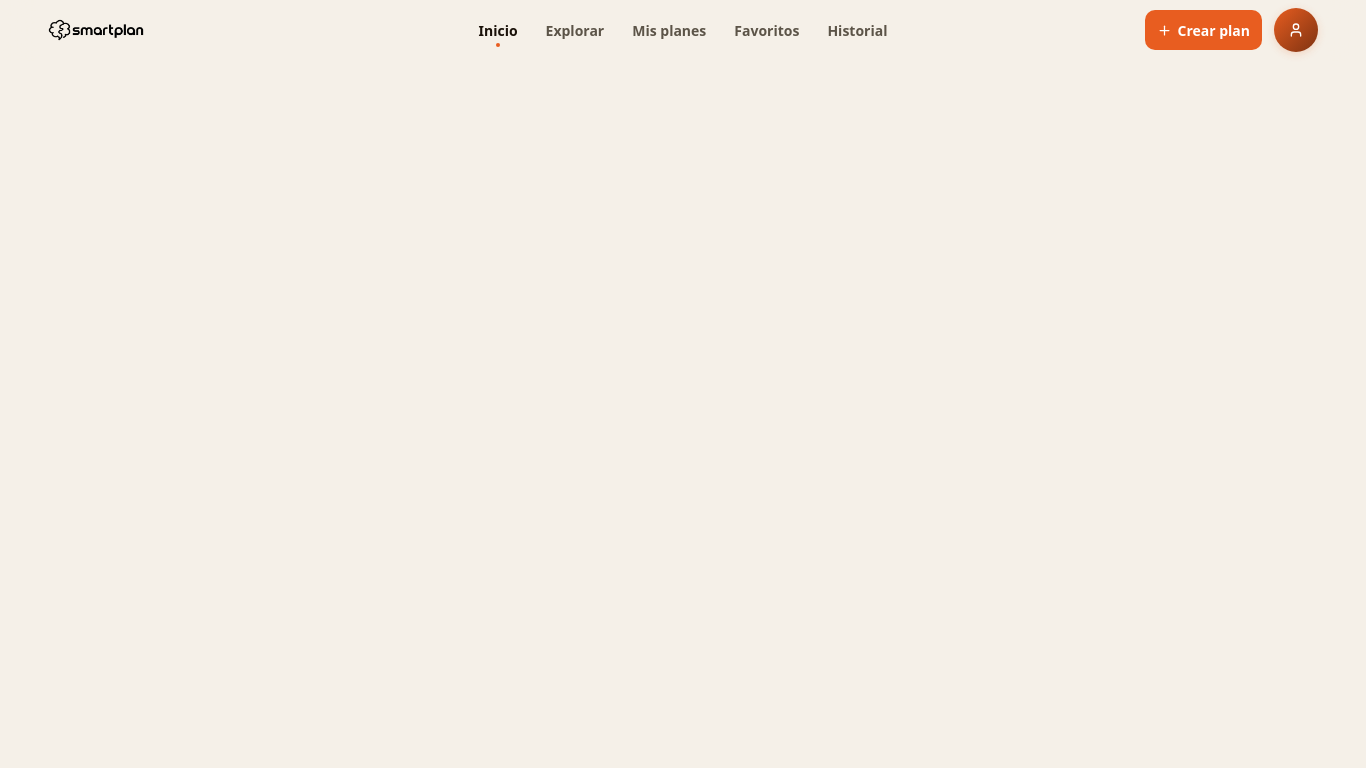
Navbar › still clears the local session and redirects when DELETE /sessions fails
This screenshot has width=1366, height=768.
Click the button named "mi cuenta": (1296, 30) [1274, 8, 1318, 52]
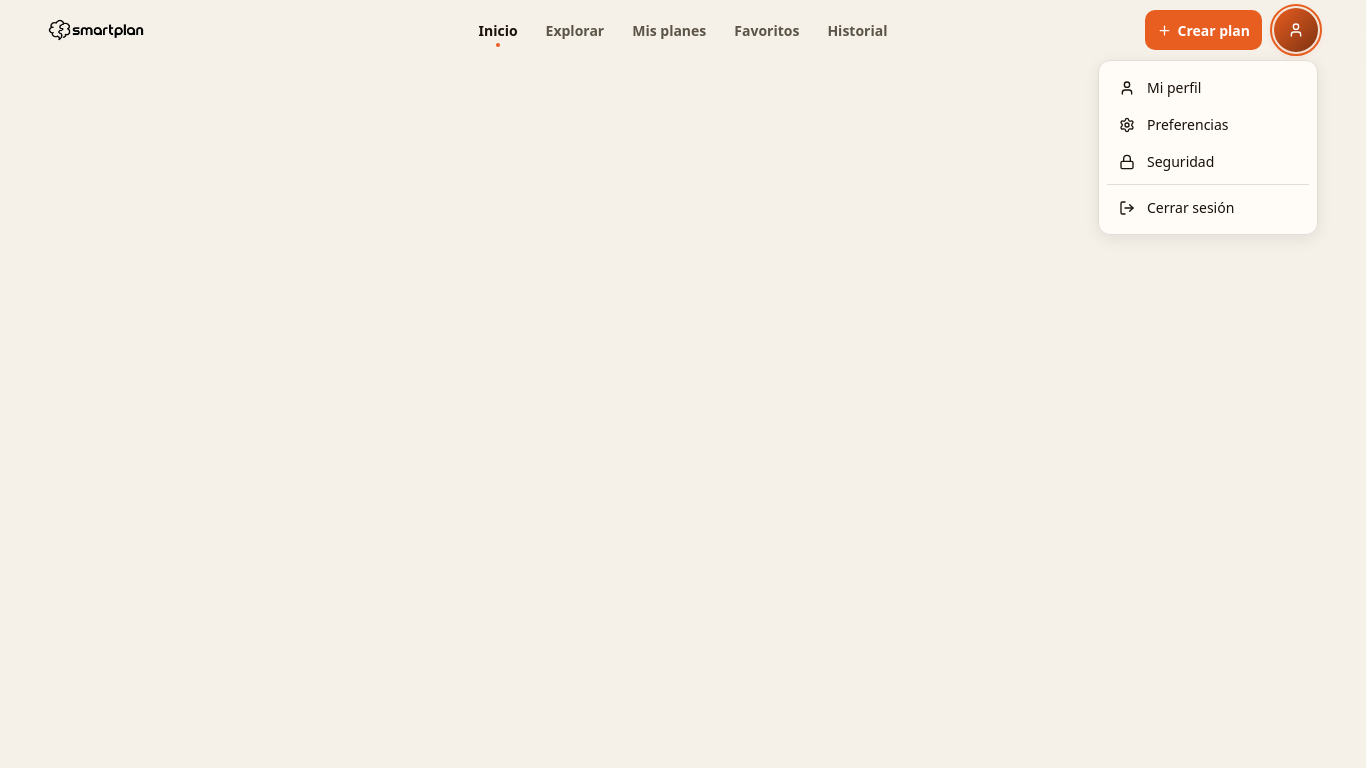
Click the button "Cerrar sesión": (1208, 208) [1107, 189, 1309, 226]
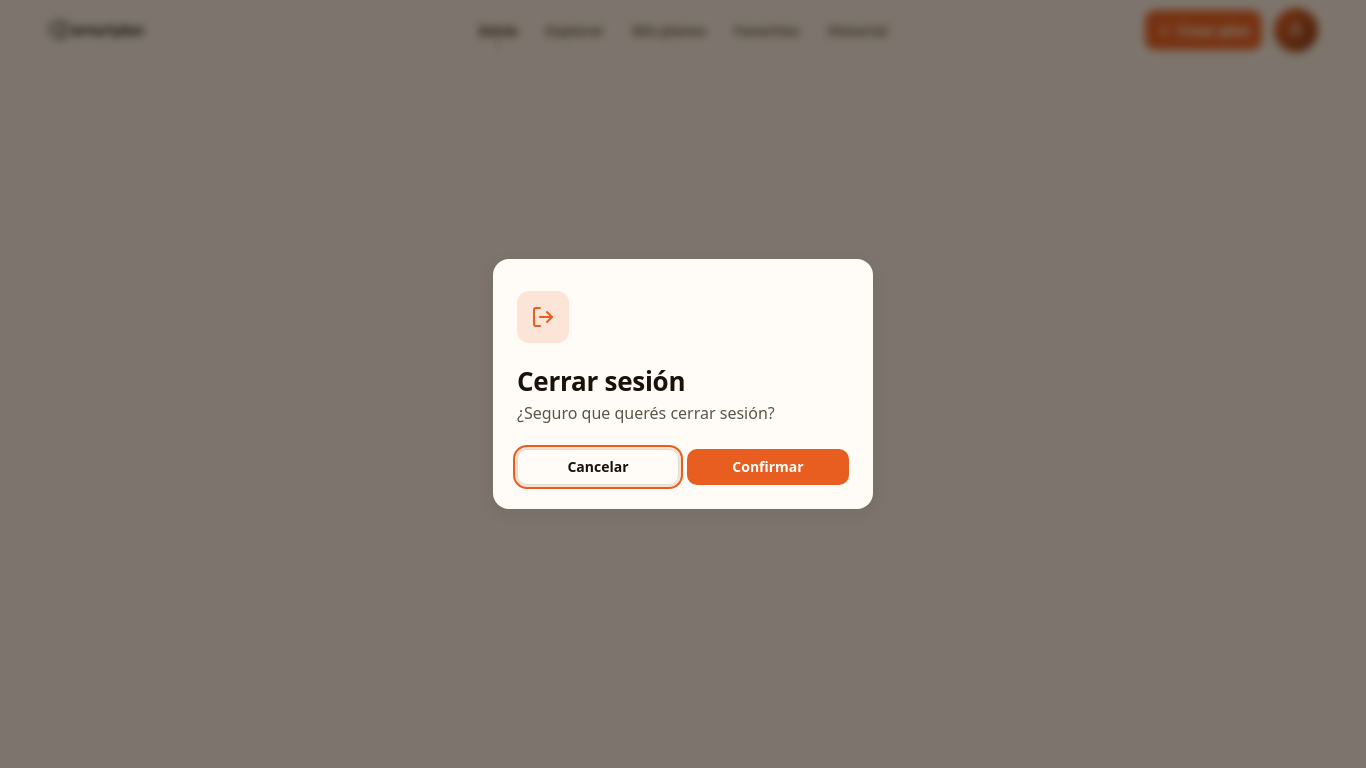
Click the button "Confirmar": (768, 467) [687, 449, 849, 485]
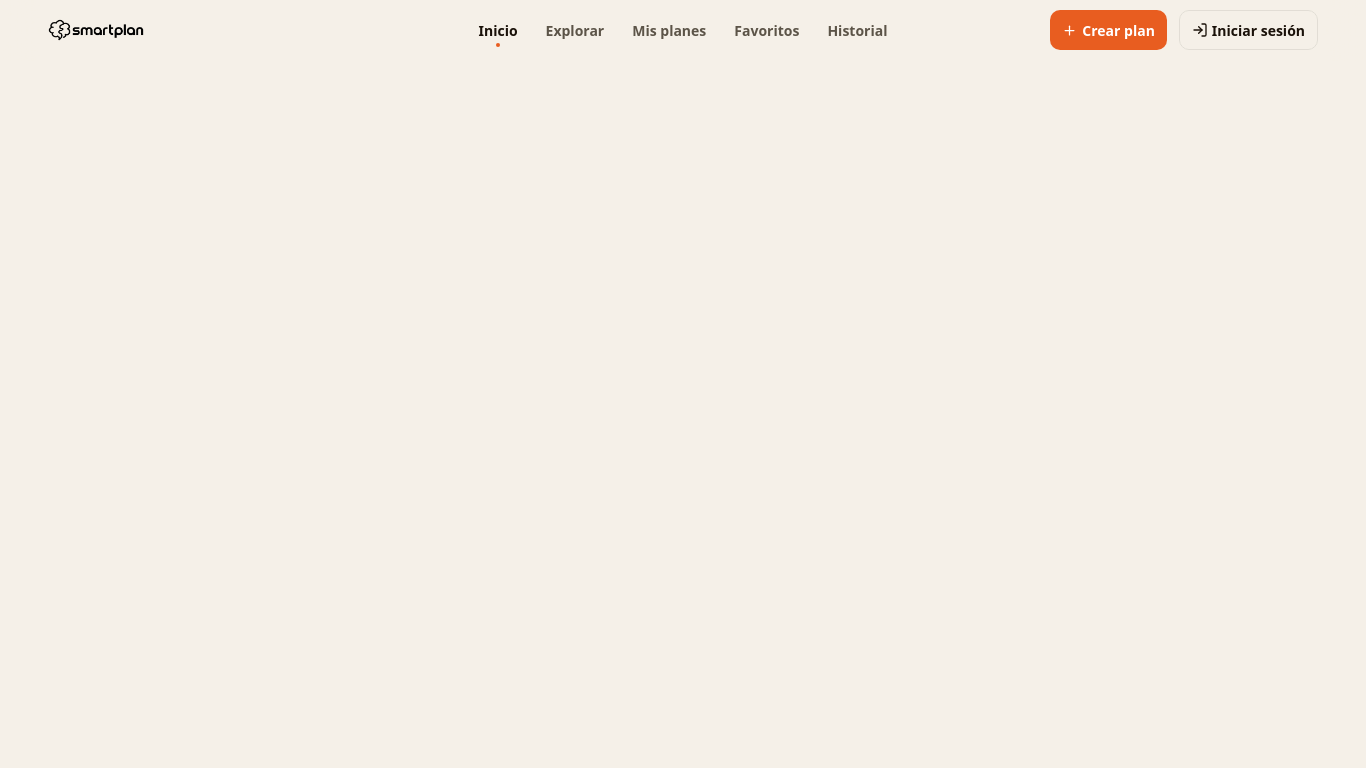
Expected: the link "Iniciar sesión" is shown, [1179, 10, 1318, 50]
